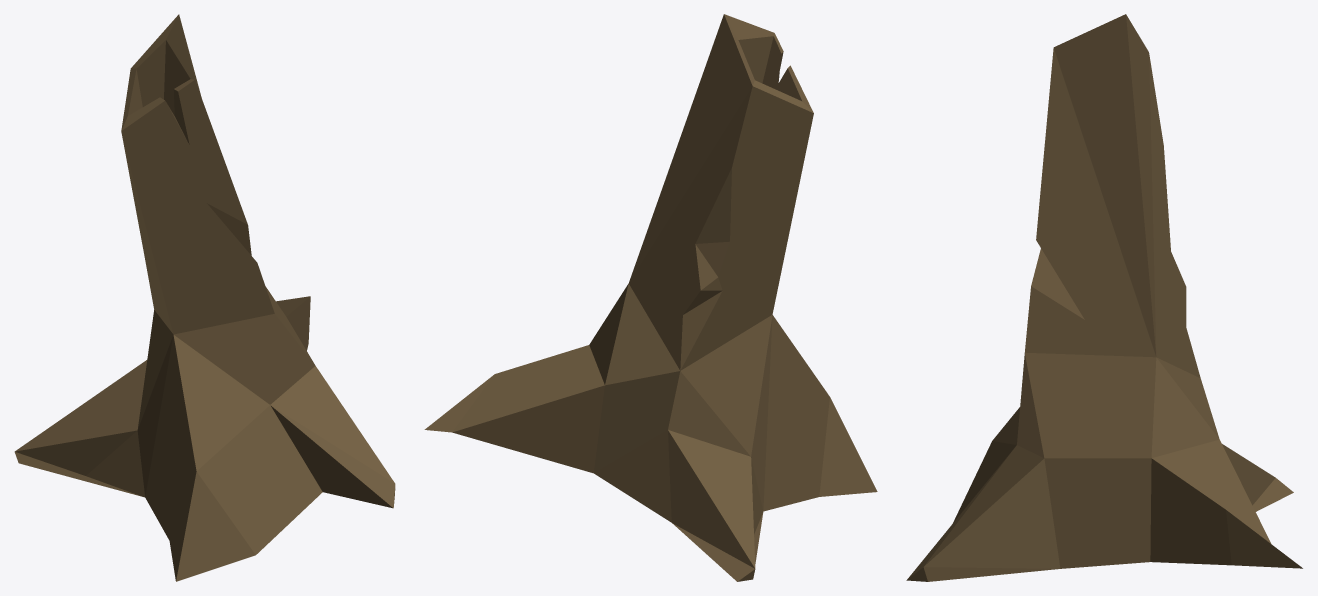
The model's file is Tree_Dry_B_03.fbx.
3 views of the same model, side by side, from view 1: azimuth 30°, elevation 25°; view 2: azimuth 150°, elevation 25°; view 3: azimuth 270°, elevation 25° (orthographic). The views are drawn at different scales.
Parts seen in each view (by area): view 1: Tree_Dry_B_03; view 2: Tree_Dry_B_03; view 3: Tree_Dry_B_03.
Boxes of the visible parts, box(x1,y1,x2,y2) form: Tree_Dry_B_03: box(14, 14, 395, 581); Tree_Dry_B_03: box(424, 14, 877, 581); Tree_Dry_B_03: box(906, 14, 1302, 581).
Size of the model in its own units: 157 by 242 by 157.
